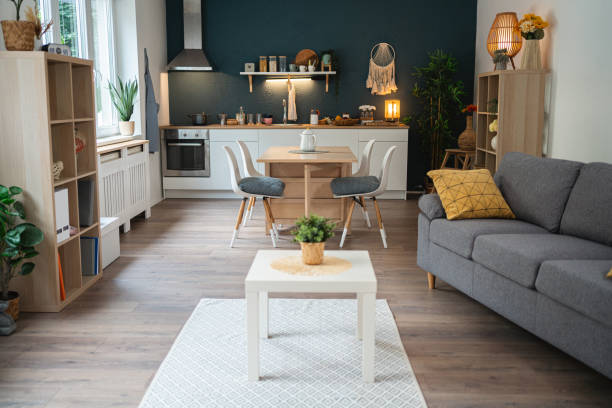dining table set: (224, 135, 400, 250)
large plant: (412, 45, 469, 181), (0, 181, 47, 337)
small plant: (107, 73, 141, 137), (296, 215, 333, 265)
sofa: (416, 150, 612, 384)
table: (243, 248, 378, 386)
